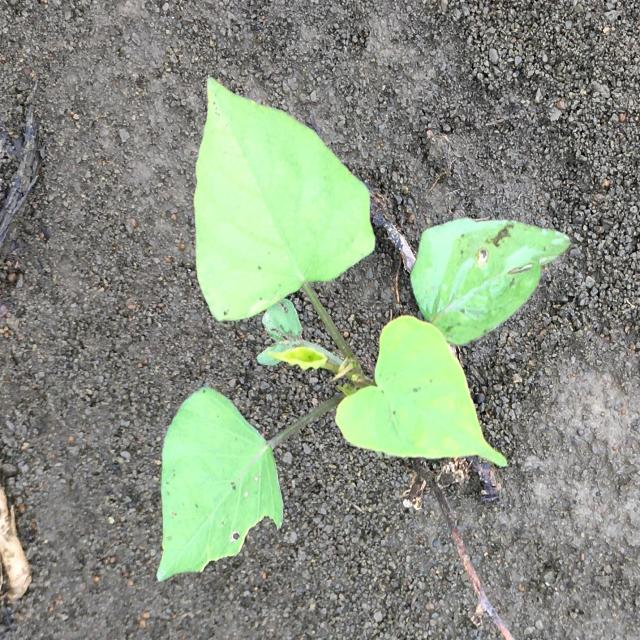MorningGlory: (156, 78, 571, 582)
